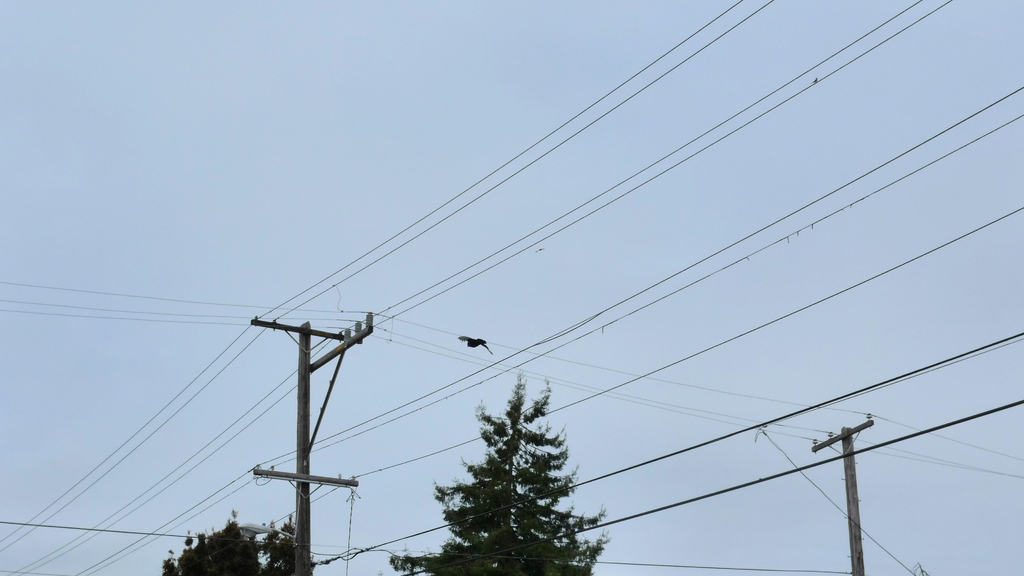Tree: (377, 368, 611, 575), (157, 511, 314, 576)
